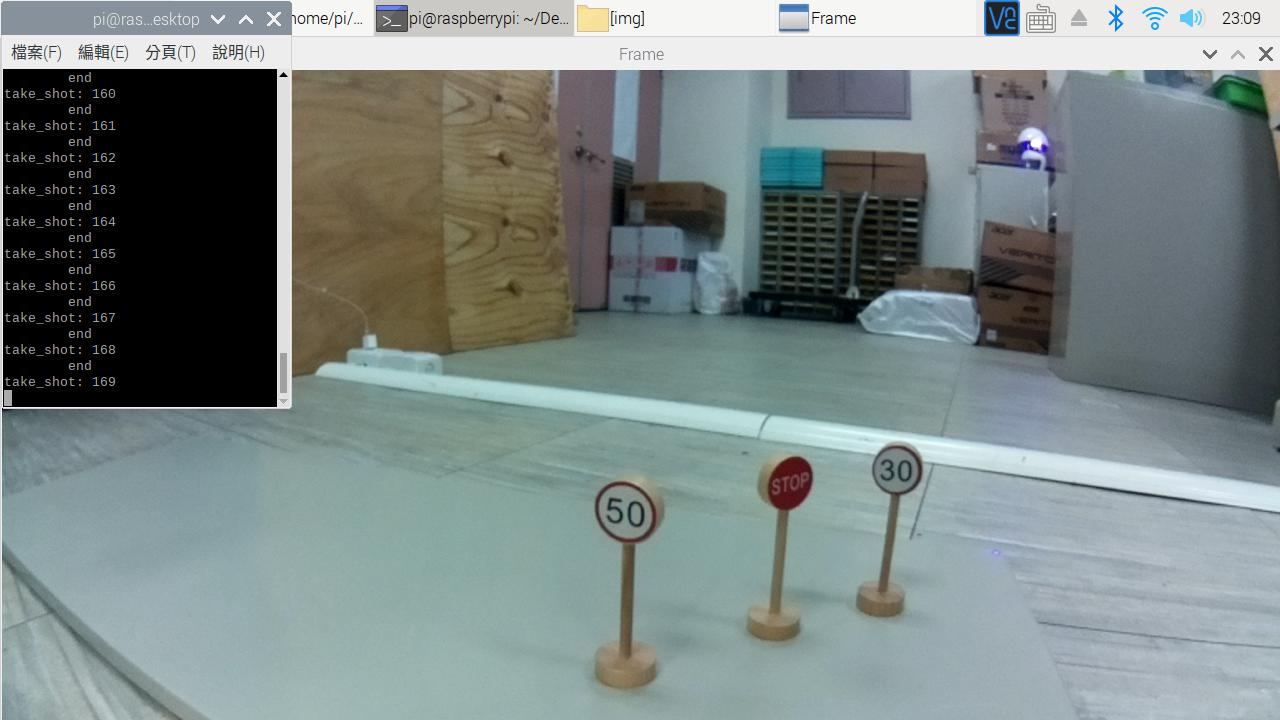Speed30: (855, 439, 940, 500)
Speed50: (578, 465, 683, 557)
Stop: (755, 444, 820, 520)
